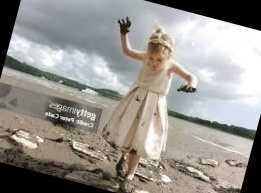earth: (134, 113, 146, 128), (101, 124, 112, 138), (133, 95, 142, 104)
